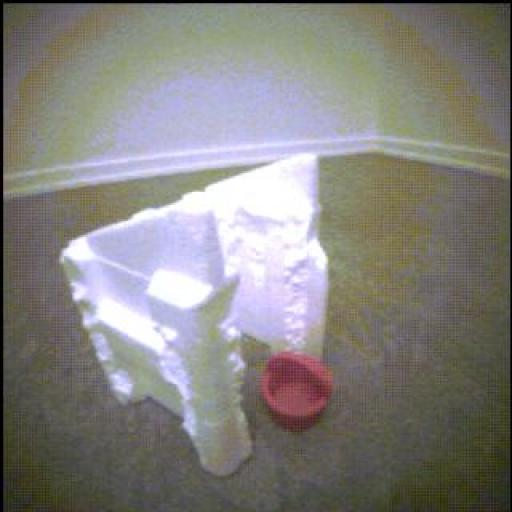Bucket: (262, 353, 334, 433)
